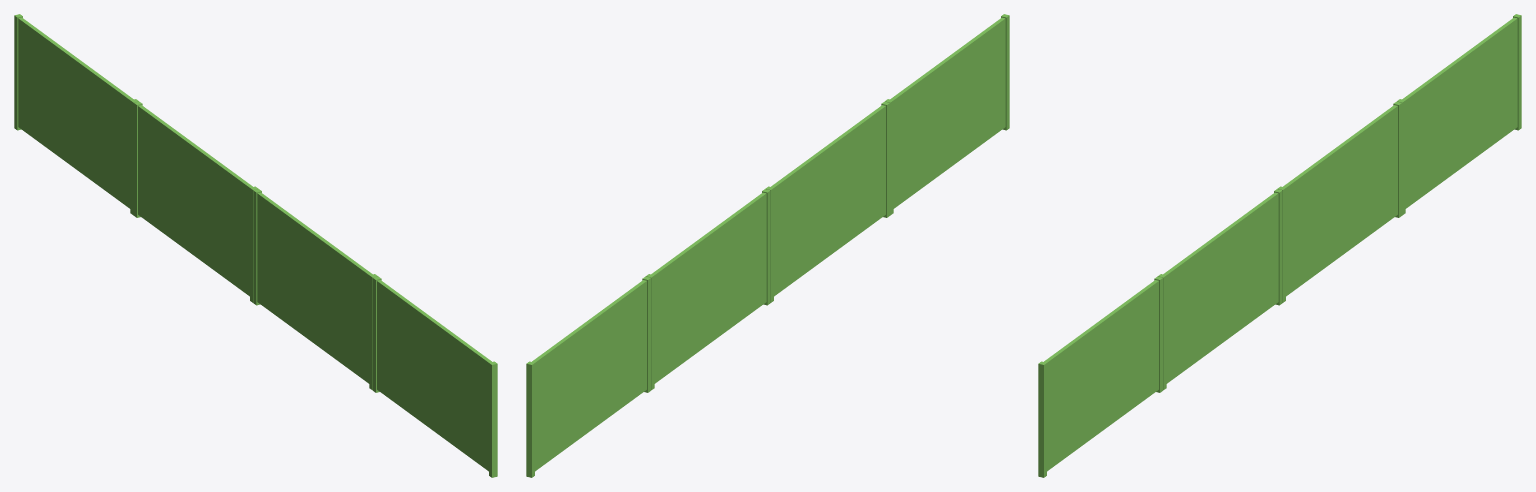
The model's file is Garden_Fence_02_x4_Lod0.fbx.
3 renders of one model, left to right at view 1: azimuth 30°, elevation 25°; view 2: azimuth 150°, elevation 25°; view 3: azimuth 330°, elevation 25°, orthographic.
Parts seen in each view (by area): view 1: Garden_Fence_02_x4_Lod0; view 2: Garden_Fence_02_x4_Lod0; view 3: Garden_Fence_02_x4_Lod0.
Boxes of the visible parts, left/top/right/bottom form: Garden_Fence_02_x4_Lod0: left=14, top=14, right=497, bottom=477; Garden_Fence_02_x4_Lod0: left=526, top=14, right=1009, bottom=477; Garden_Fence_02_x4_Lod0: left=1038, top=14, right=1521, bottom=477.
Bounding box in the file's own units: 8.12 × 156 × 1199.
